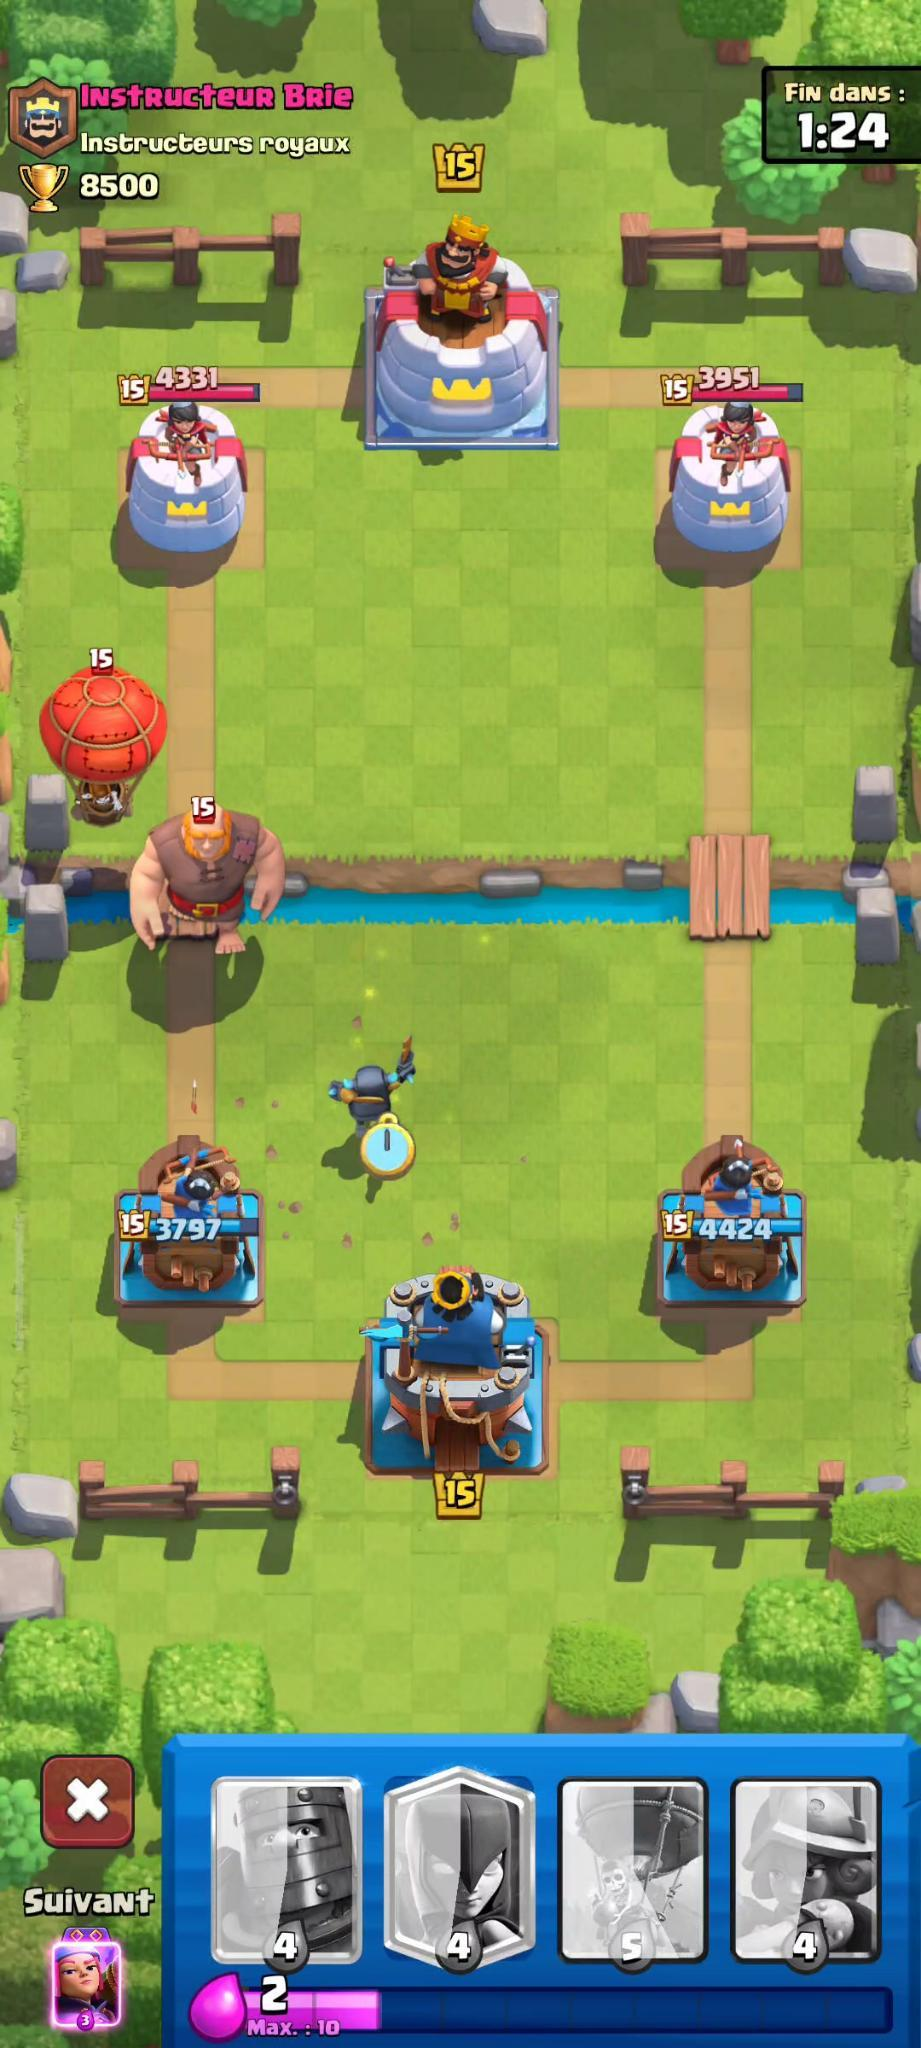enemy_balloon: (29, 651, 176, 828)
enemy_giant: (122, 793, 289, 957)
player_mini_pekka: (317, 1031, 424, 1138)
